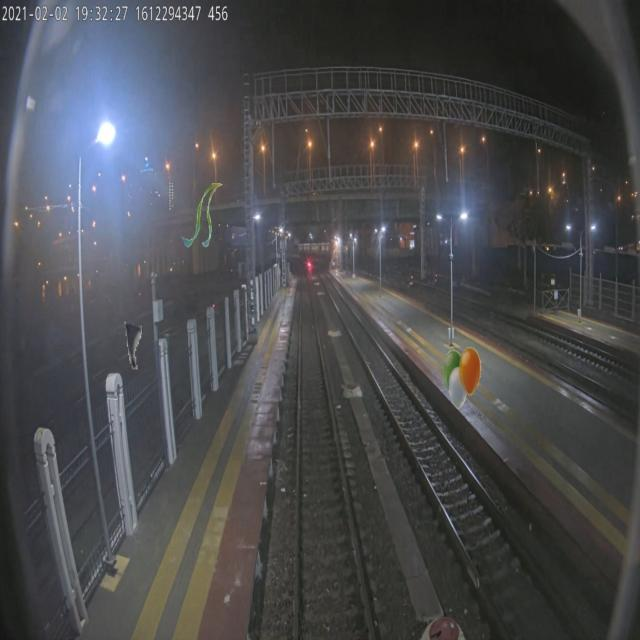balloon: (443, 346, 481, 411)
floating object: (182, 183, 224, 247), (123, 307, 142, 371)
